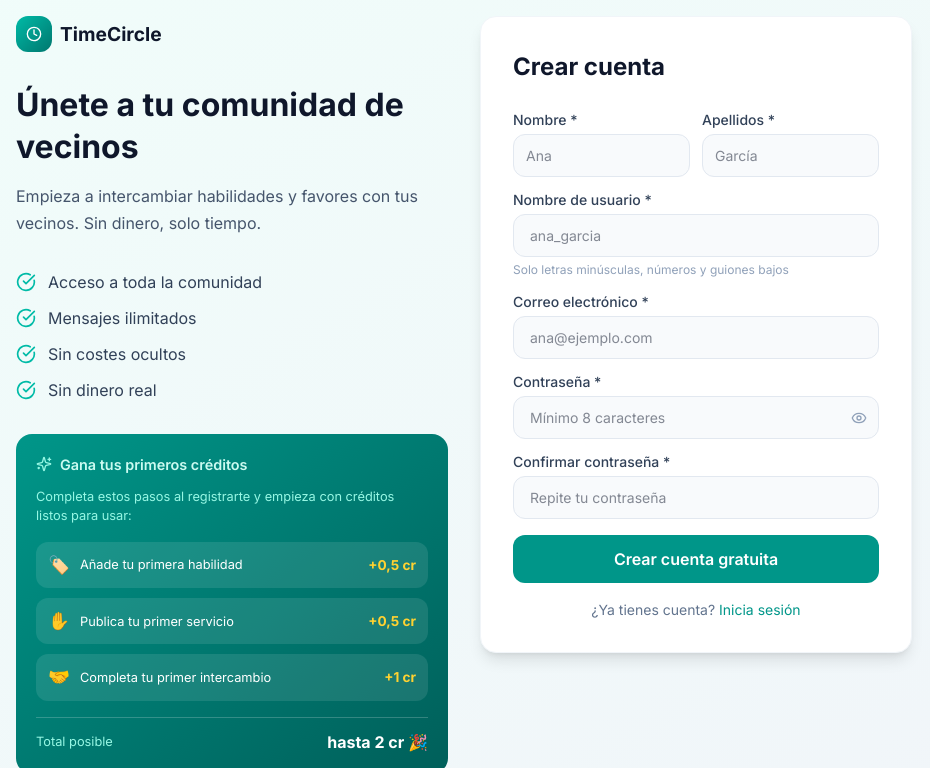
Test: Register page › validates password mismatch and length
In the password field labelled "Contraseña *": (696, 418) [513,396,879,439], type "password123"
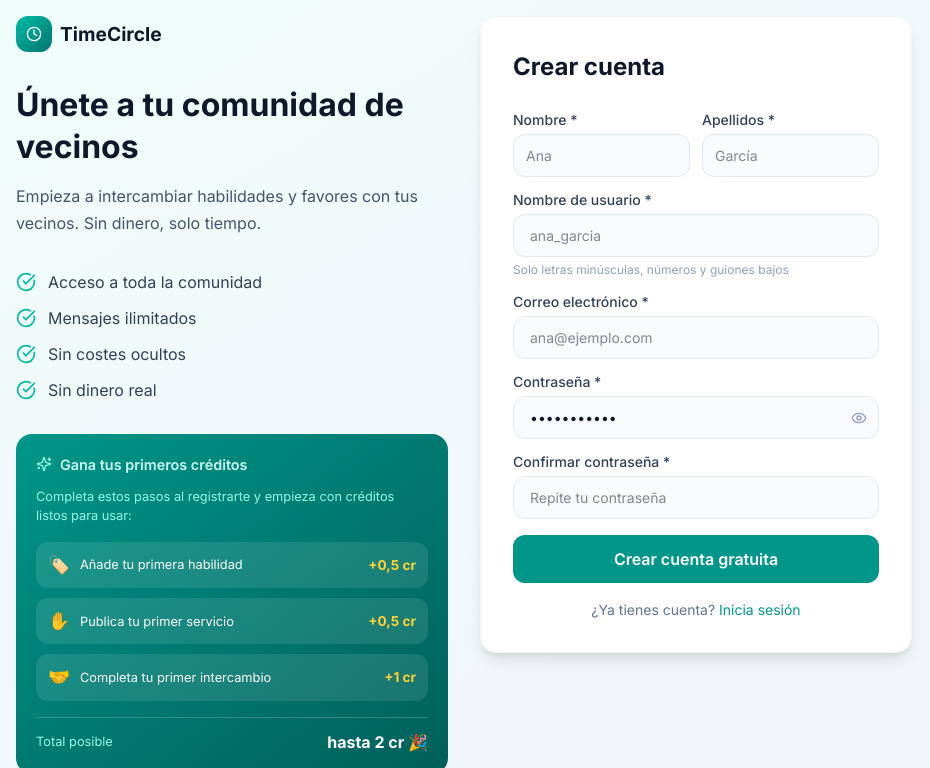
In the password field labelled "Confirmar contraseña *": (696, 498) [513,476,879,519], type "different"
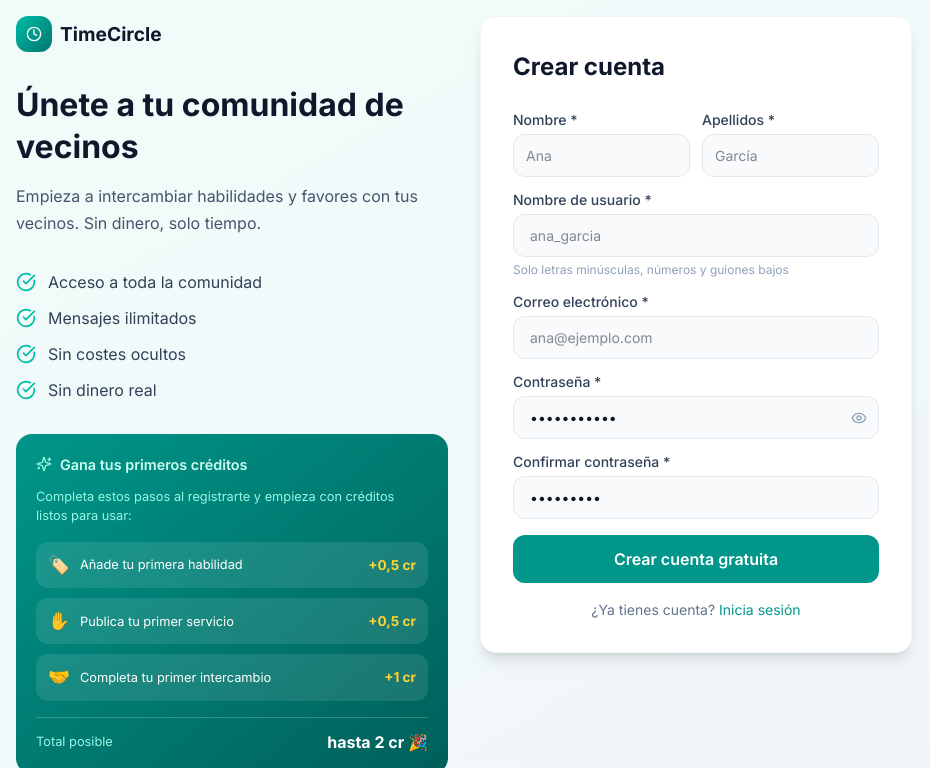
Click the button "Crear cuenta gratuita": (696, 559) [513,535,879,583]
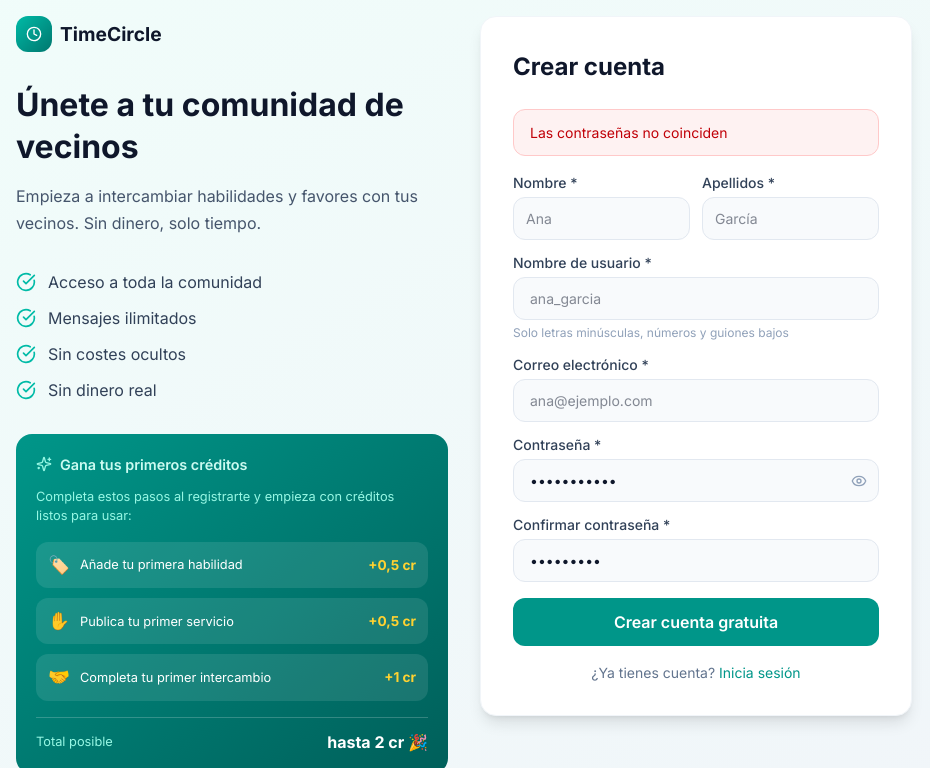
Expected: the text "Las contraseñas no coinciden" is shown, [513,109,879,156]
In the password field labelled "Contraseña *": (696, 480) [513,459,879,502], type "short"
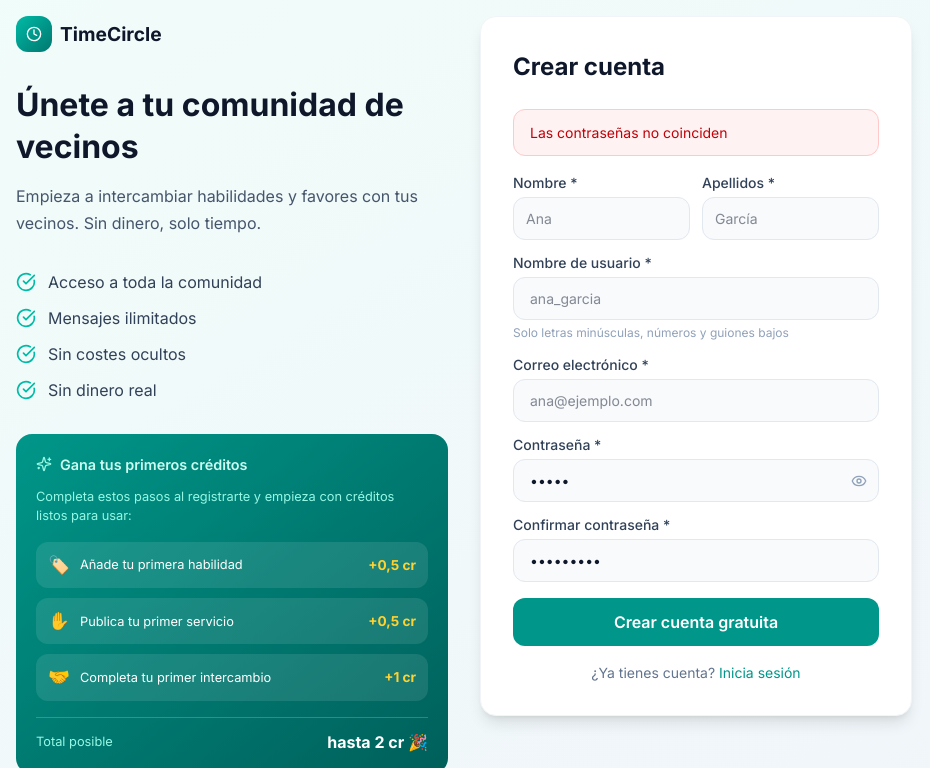
In the password field labelled "Confirmar contraseña *": (696, 560) [513,539,879,582], type "short"
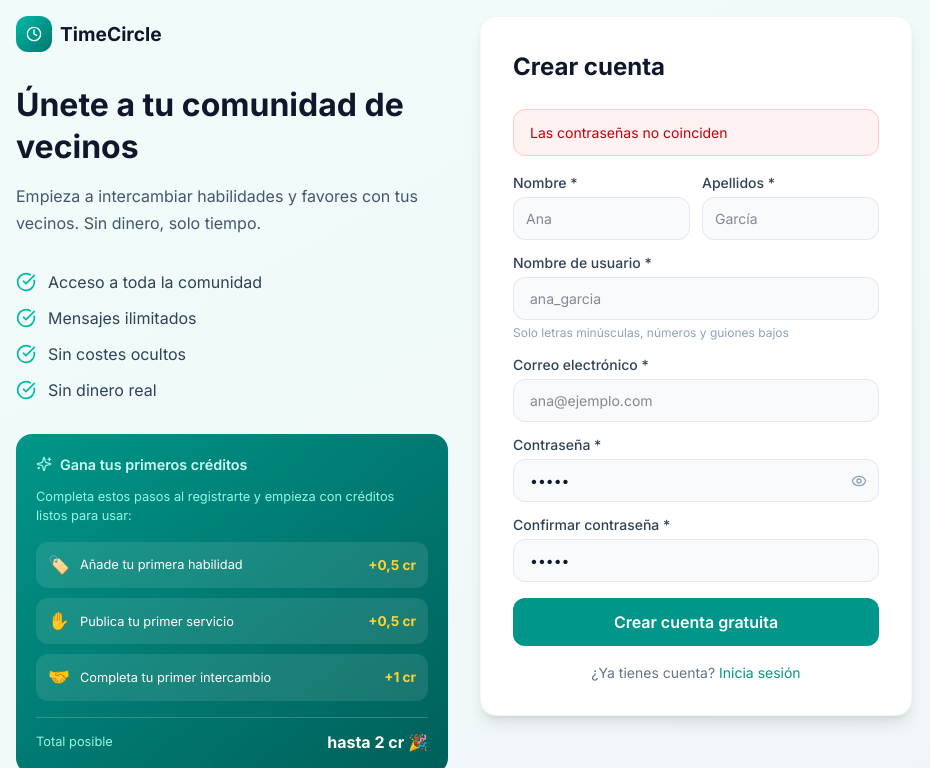
Click the button "Crear cuenta gratuita": (696, 622) [513,598,879,646]
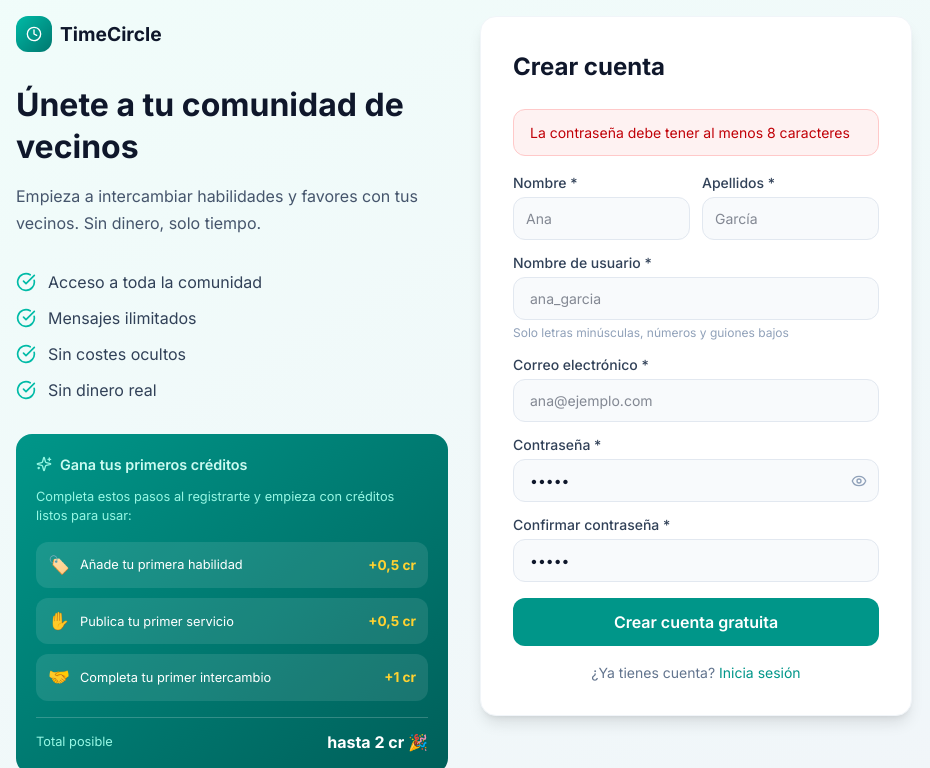
Expected: the text "La contraseña debe tener al menos 8 caracteres" is shown, [513,109,879,156]
